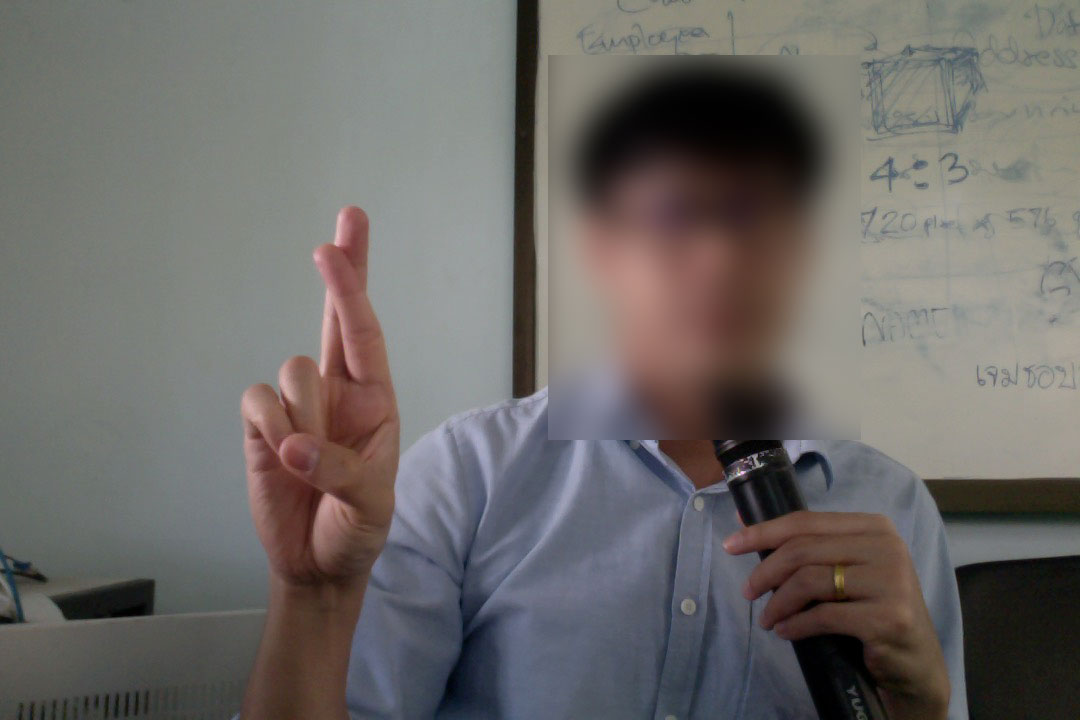rao: (234, 197, 402, 597)
